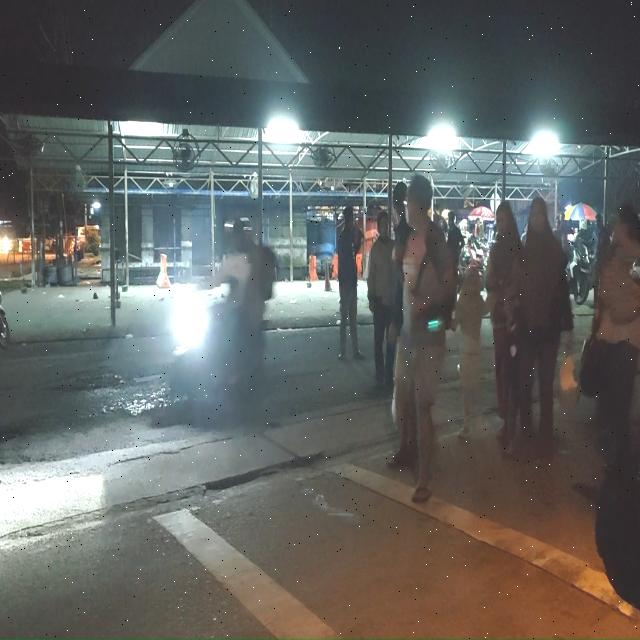Golongan II: (168, 295, 264, 404), (565, 240, 595, 305), (458, 236, 488, 293)
